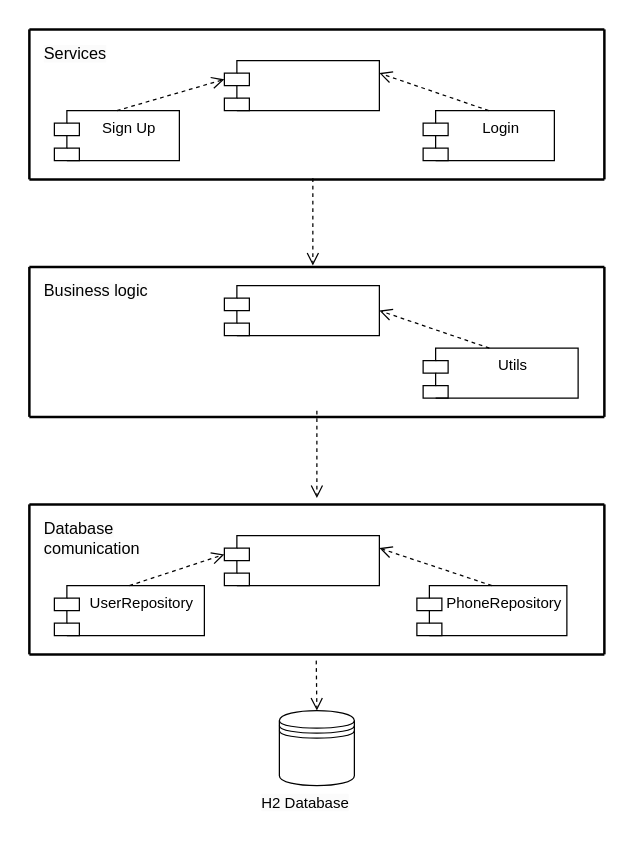
Image size: 633x856. Some labels were removed from this diagram. Here are the shapes that lost their labels. From the top down, the centre of each, then its label:
At pixel 301 85: "UserController".
At pixel 301 310: "UserService".
At pixel 301 560: "JpaRepository".
